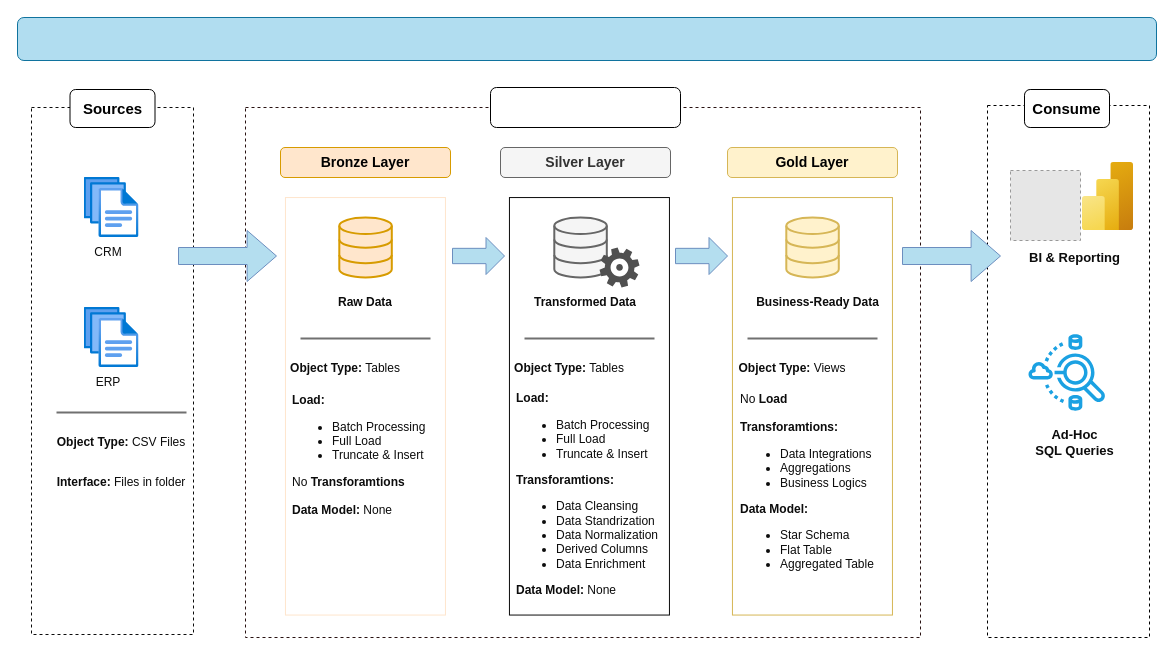
The diagram is 1174 pixels wide and 655 high, and some of its shapes have lost their labels. Grey dashed boxes stand in for pictures. The shapes that lost their labels are listed below. From the top down, each one's centre as x and y in pixels, then its label:
point (586, 38): Medallion Architecture
point (585, 107): Data Warehouse
